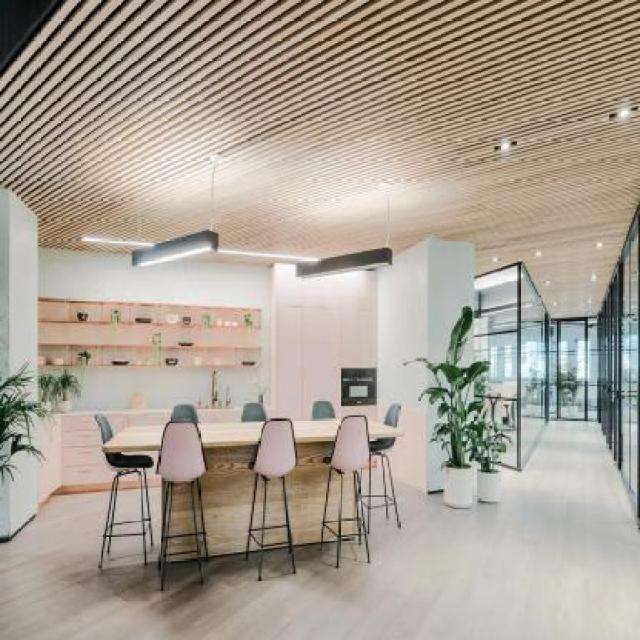Floor: (0, 418, 640, 640), (370, 468, 385, 495), (384, 474, 394, 501), (360, 469, 369, 496), (362, 503, 368, 532), (370, 497, 386, 507), (358, 500, 363, 525), (362, 497, 368, 507), (387, 498, 394, 504)
